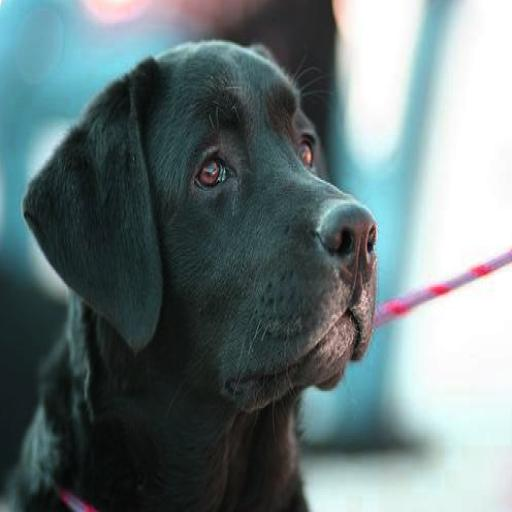dog_face: (23, 29, 382, 416)
